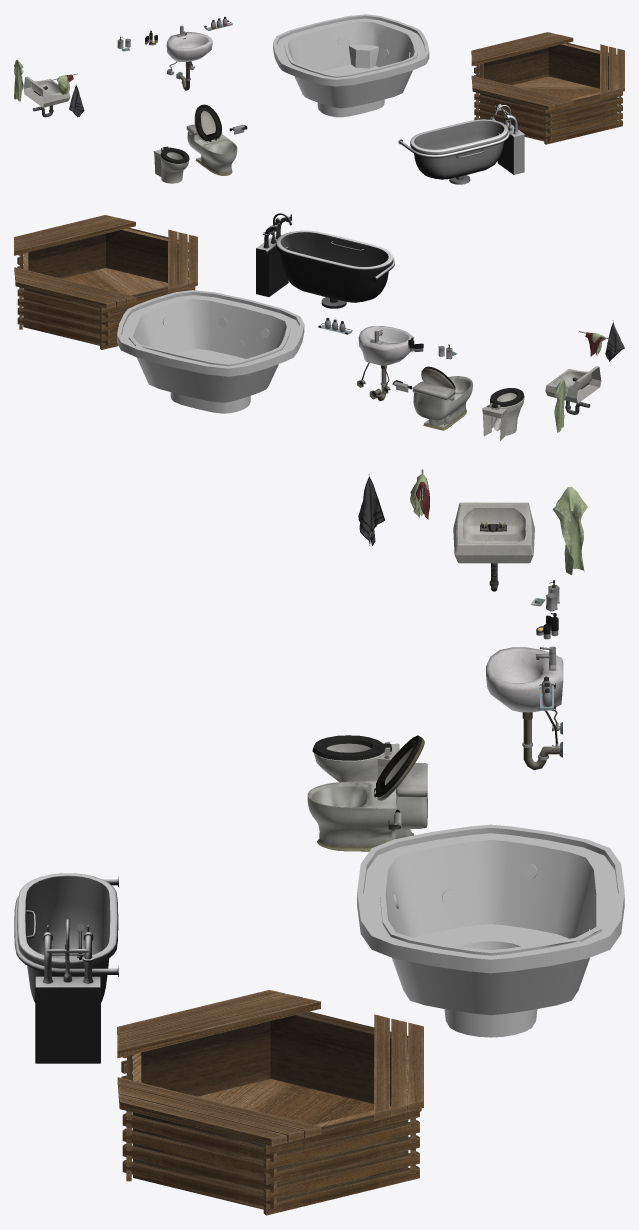
File: bathroom_props_adjusted.fbx
3 renders of one model, top to bottom at view 1: azimuth 30°, elevation 25°; view 2: azimuth 150°, elevation 25°; view 3: azimuth 270°, elevation 25°, orthographic. The views are drawn at different scales.
Visible parts, largest first — view 1: Object01, 063, 002, Box01, Object005, Object02, Object004, Object03, Arch30_010_00, Arch_005_00, Arch30_013_01; view 2: Object01, 063, 002, Box01, Object005, Object004, Object02, Object03, Arch30_010_00, Arch_005_00, Arch30_013_01; view 3: Object01, 063, 002, Object005, Box01, Object02, Object004, Object03, Arch30_010_00, Arch_005_00.
Part boxes in pixels (<box>): Object01: <box>471,32,624,144</box>; 063: <box>273,14,429,117</box>; 002: <box>398,104,524,184</box>; Box01: <box>166,25,212,90</box>; Object005: <box>187,131,237,175</box>; Object02: <box>23,76,70,117</box>; Object004: <box>153,146,189,183</box>; Object03: <box>186,104,221,160</box>; Arch30_010_00: <box>14,59,23,101</box>; Arch_005_00: <box>69,84,84,117</box>; Arch30_013_01: <box>51,73,77,94</box>; Object01: <box>14,215,197,349</box>; 063: <box>117,290,304,413</box>; 002: <box>256,213,394,308</box>; Box01: <box>357,326,413,400</box>; Object005: <box>413,376,472,430</box>; Object004: <box>482,388,524,440</box>; Object02: <box>545,366,601,414</box>; Object03: <box>412,366,455,425</box>; Arch30_010_00: <box>554,379,567,432</box>; Arch_005_00: <box>605,320,624,361</box>; Arch30_013_01: <box>579,331,610,356</box>; Object01: <box>117,990,423,1215</box>; 063: <box>357,824,624,1037</box>; 002: <box>14,873,118,1063</box>; Object005: <box>307,781,427,851</box>; Box01: <box>486,646,563,769</box>; Object02: <box>453,502,534,591</box>; Object004: <box>312,735,399,782</box>; Object03: <box>373,735,427,800</box>; Arch30_010_00: <box>552,487,587,575</box>; Arch_005_00: <box>358,474,384,545</box>.
Bounding box in the file's own units: 1095 × 230 × 540.
